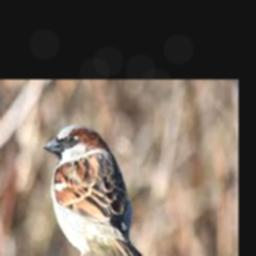Sparrow: (42, 124, 155, 256)
